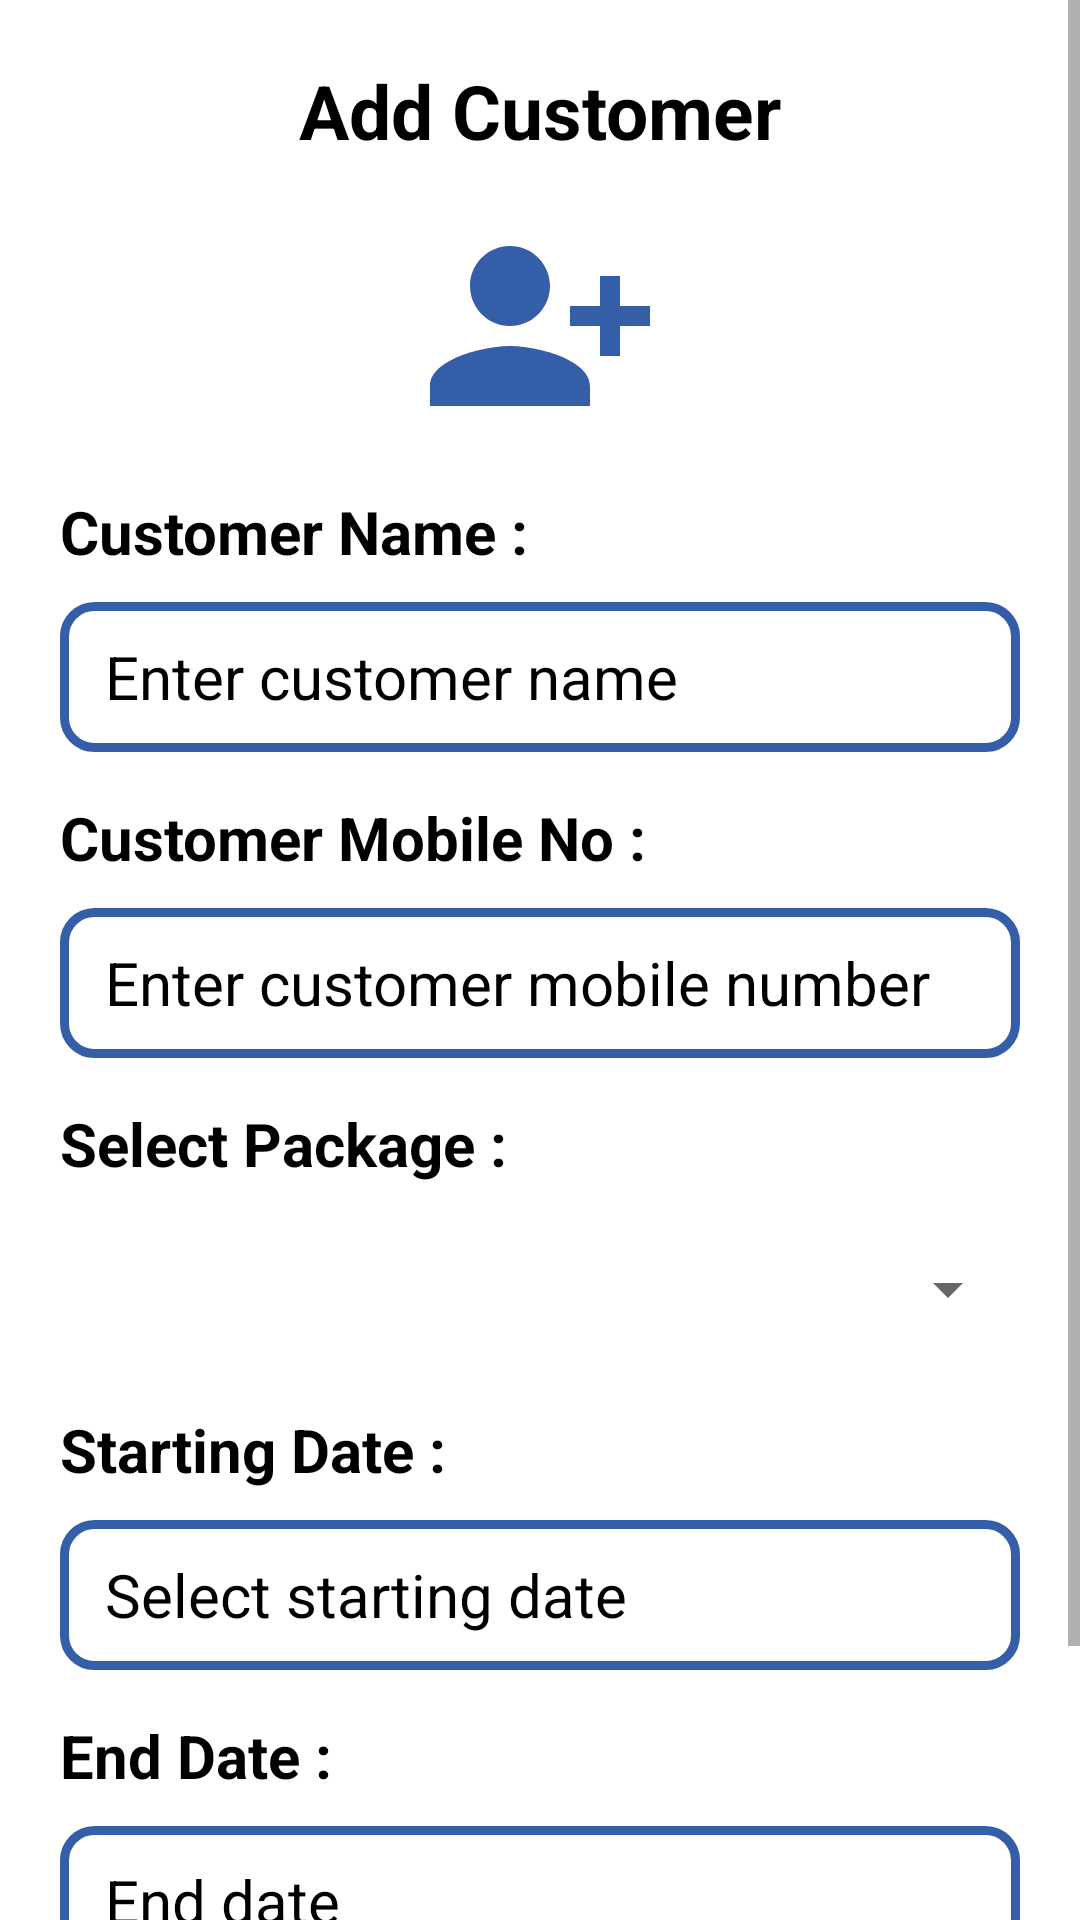

Icon bounding boxes for this 1080*1920 phone screenshot, format detection(x1, y1, x2, y2):
person add: detection(430, 246, 650, 406)
